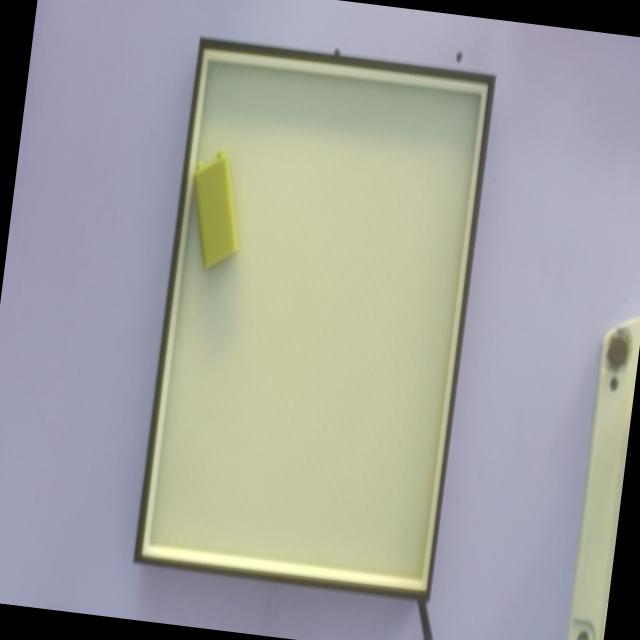bateria: (192, 148, 239, 271)
mesa: (133, 38, 495, 601)
